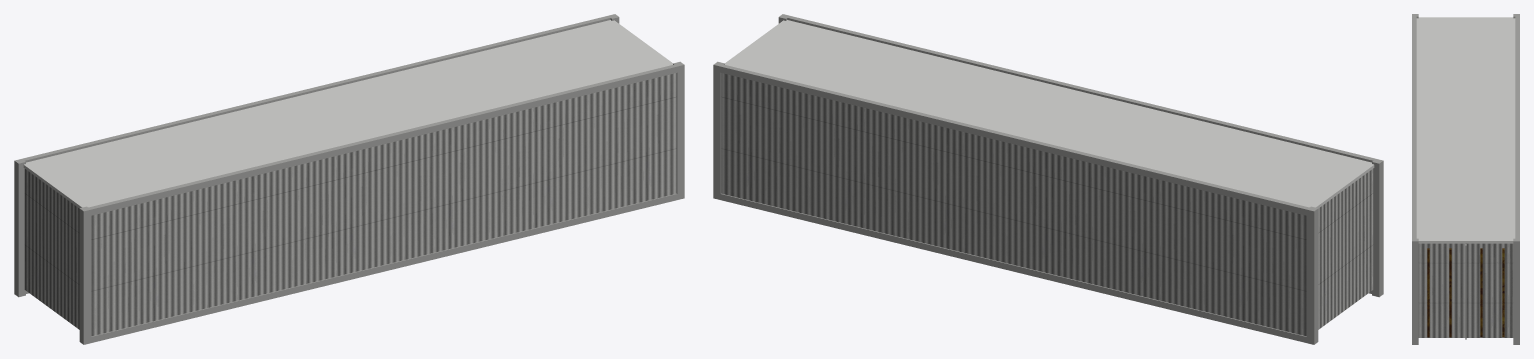
Rendered from iso-40-grey.loc-v1.lod0.glb.
3 views of the same model, side by side, from view 1: azimuth 30°, elevation 25°; view 2: azimuth 150°, elevation 25°; view 3: azimuth 270°, elevation 25° (orthographic). The views are drawn at different scales.
Visible parts, largest first — view 1: iso-40-grey; view 2: iso-40-grey; view 3: iso-40-grey.
Part boxes in pixels (x1,y1,x2,y2): iso-40-grey: [14, 14, 684, 344]; iso-40-grey: [713, 14, 1383, 344]; iso-40-grey: [1412, 14, 1519, 344].
Bounding box in the file's own units: 12.2 × 2.59 × 2.44.
3 materials, 2 textured.
